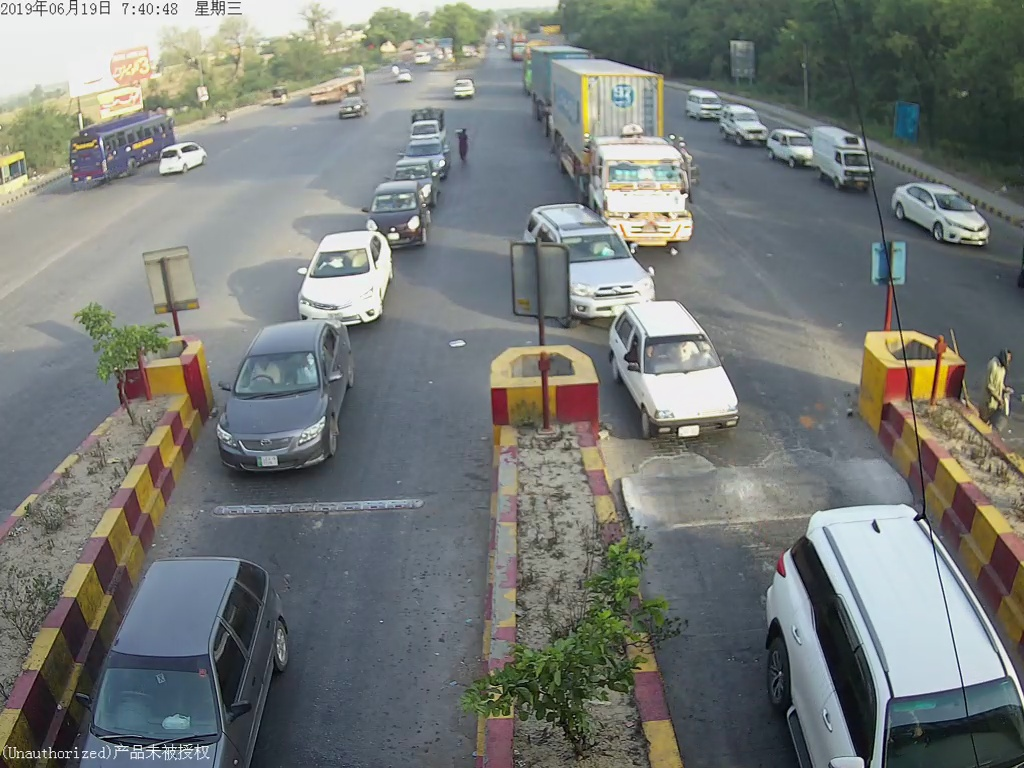Cat-1: (214, 324, 365, 471), (609, 312, 745, 434), (533, 210, 655, 307), (297, 234, 397, 325), (368, 188, 424, 237)
Cat-5: (550, 58, 695, 215)
